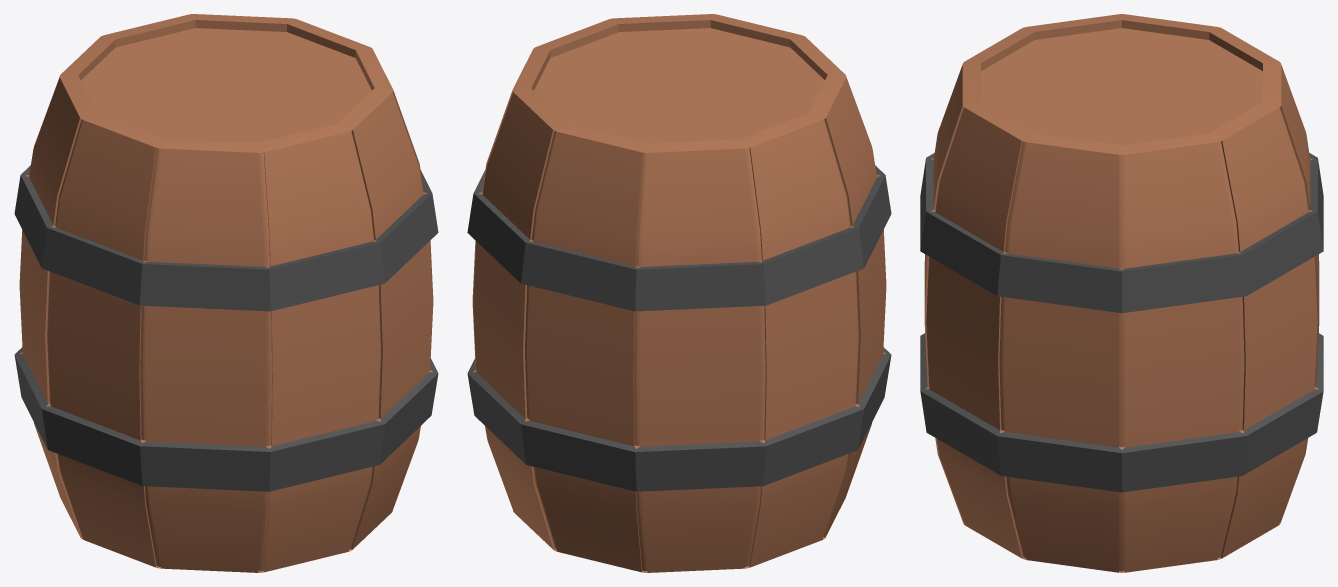
File: Barrel.fbx
3 views of the same model, side by side, from view 1: azimuth 30°, elevation 25°; view 2: azimuth 150°, elevation 25°; view 3: azimuth 270°, elevation 25° (orthographic).
Visible parts, largest first — view 1: Barrel; view 2: Barrel; view 3: Barrel.
Boxes of the visible parts, x1,y1,x2,y2 form: Barrel: (14,14,438,572); Barrel: (467,14,891,572); Barrel: (920,14,1323,572).
Size of the model in its own units: 137 by 151 by 131.
Materials: 1 (1 with a texture image).
